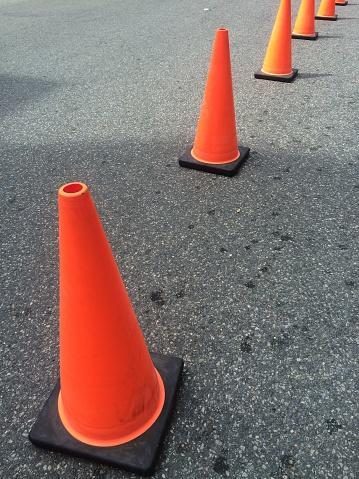Cone: (31, 182, 183, 478), (179, 28, 250, 175), (255, 1, 301, 87), (288, 1, 319, 40), (314, 1, 337, 19)
